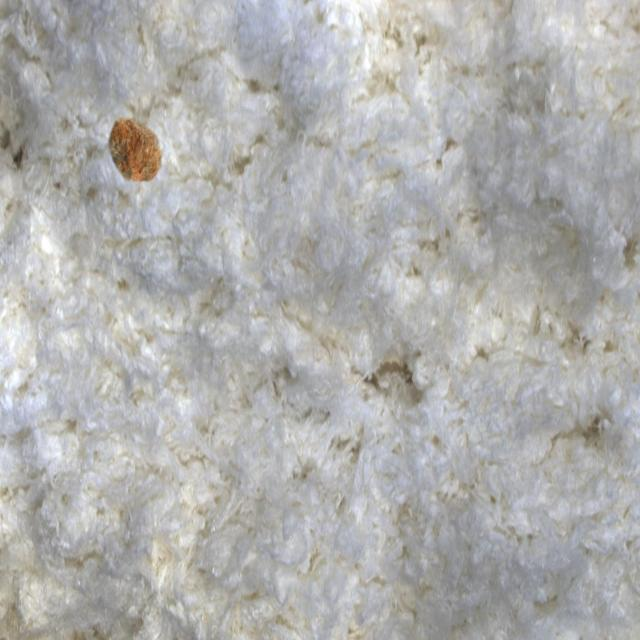dust: (86, 89, 194, 215)
